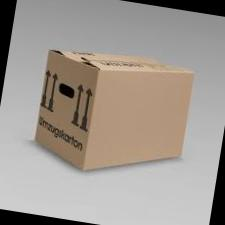Kertas: (36, 50, 193, 169)
